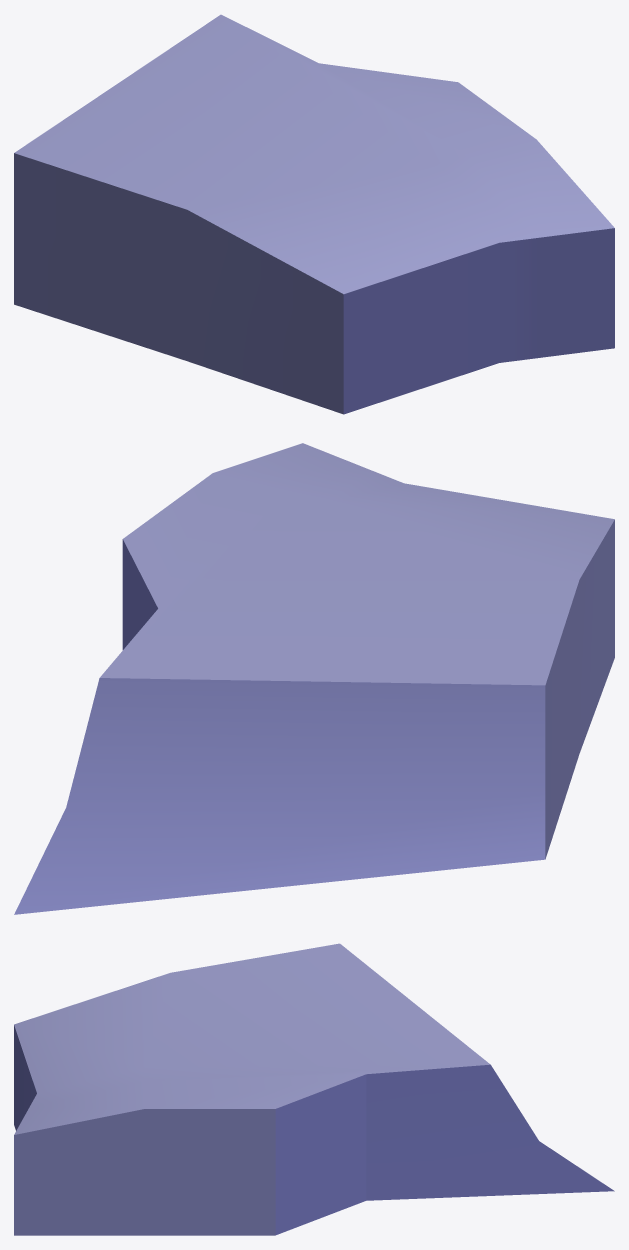
The model's file is Rock2.fbx.
3 views of the same model, one above another, from view 1: azimuth 30°, elevation 25°; view 2: azimuth 150°, elevation 25°; view 3: azimuth 270°, elevation 25° (orthographic). The views are drawn at different scales.
Visible parts, largest first — view 1: Rock2; view 2: Rock2; view 3: Rock2.
Boxes of the visible parts, box(x1,y1,x2,y2) form: Rock2: box(14, 14, 614, 414); Rock2: box(14, 443, 614, 914); Rock2: box(14, 943, 614, 1235).
Size of the model in its own units: 3.2 by 1.14 by 4.91.
